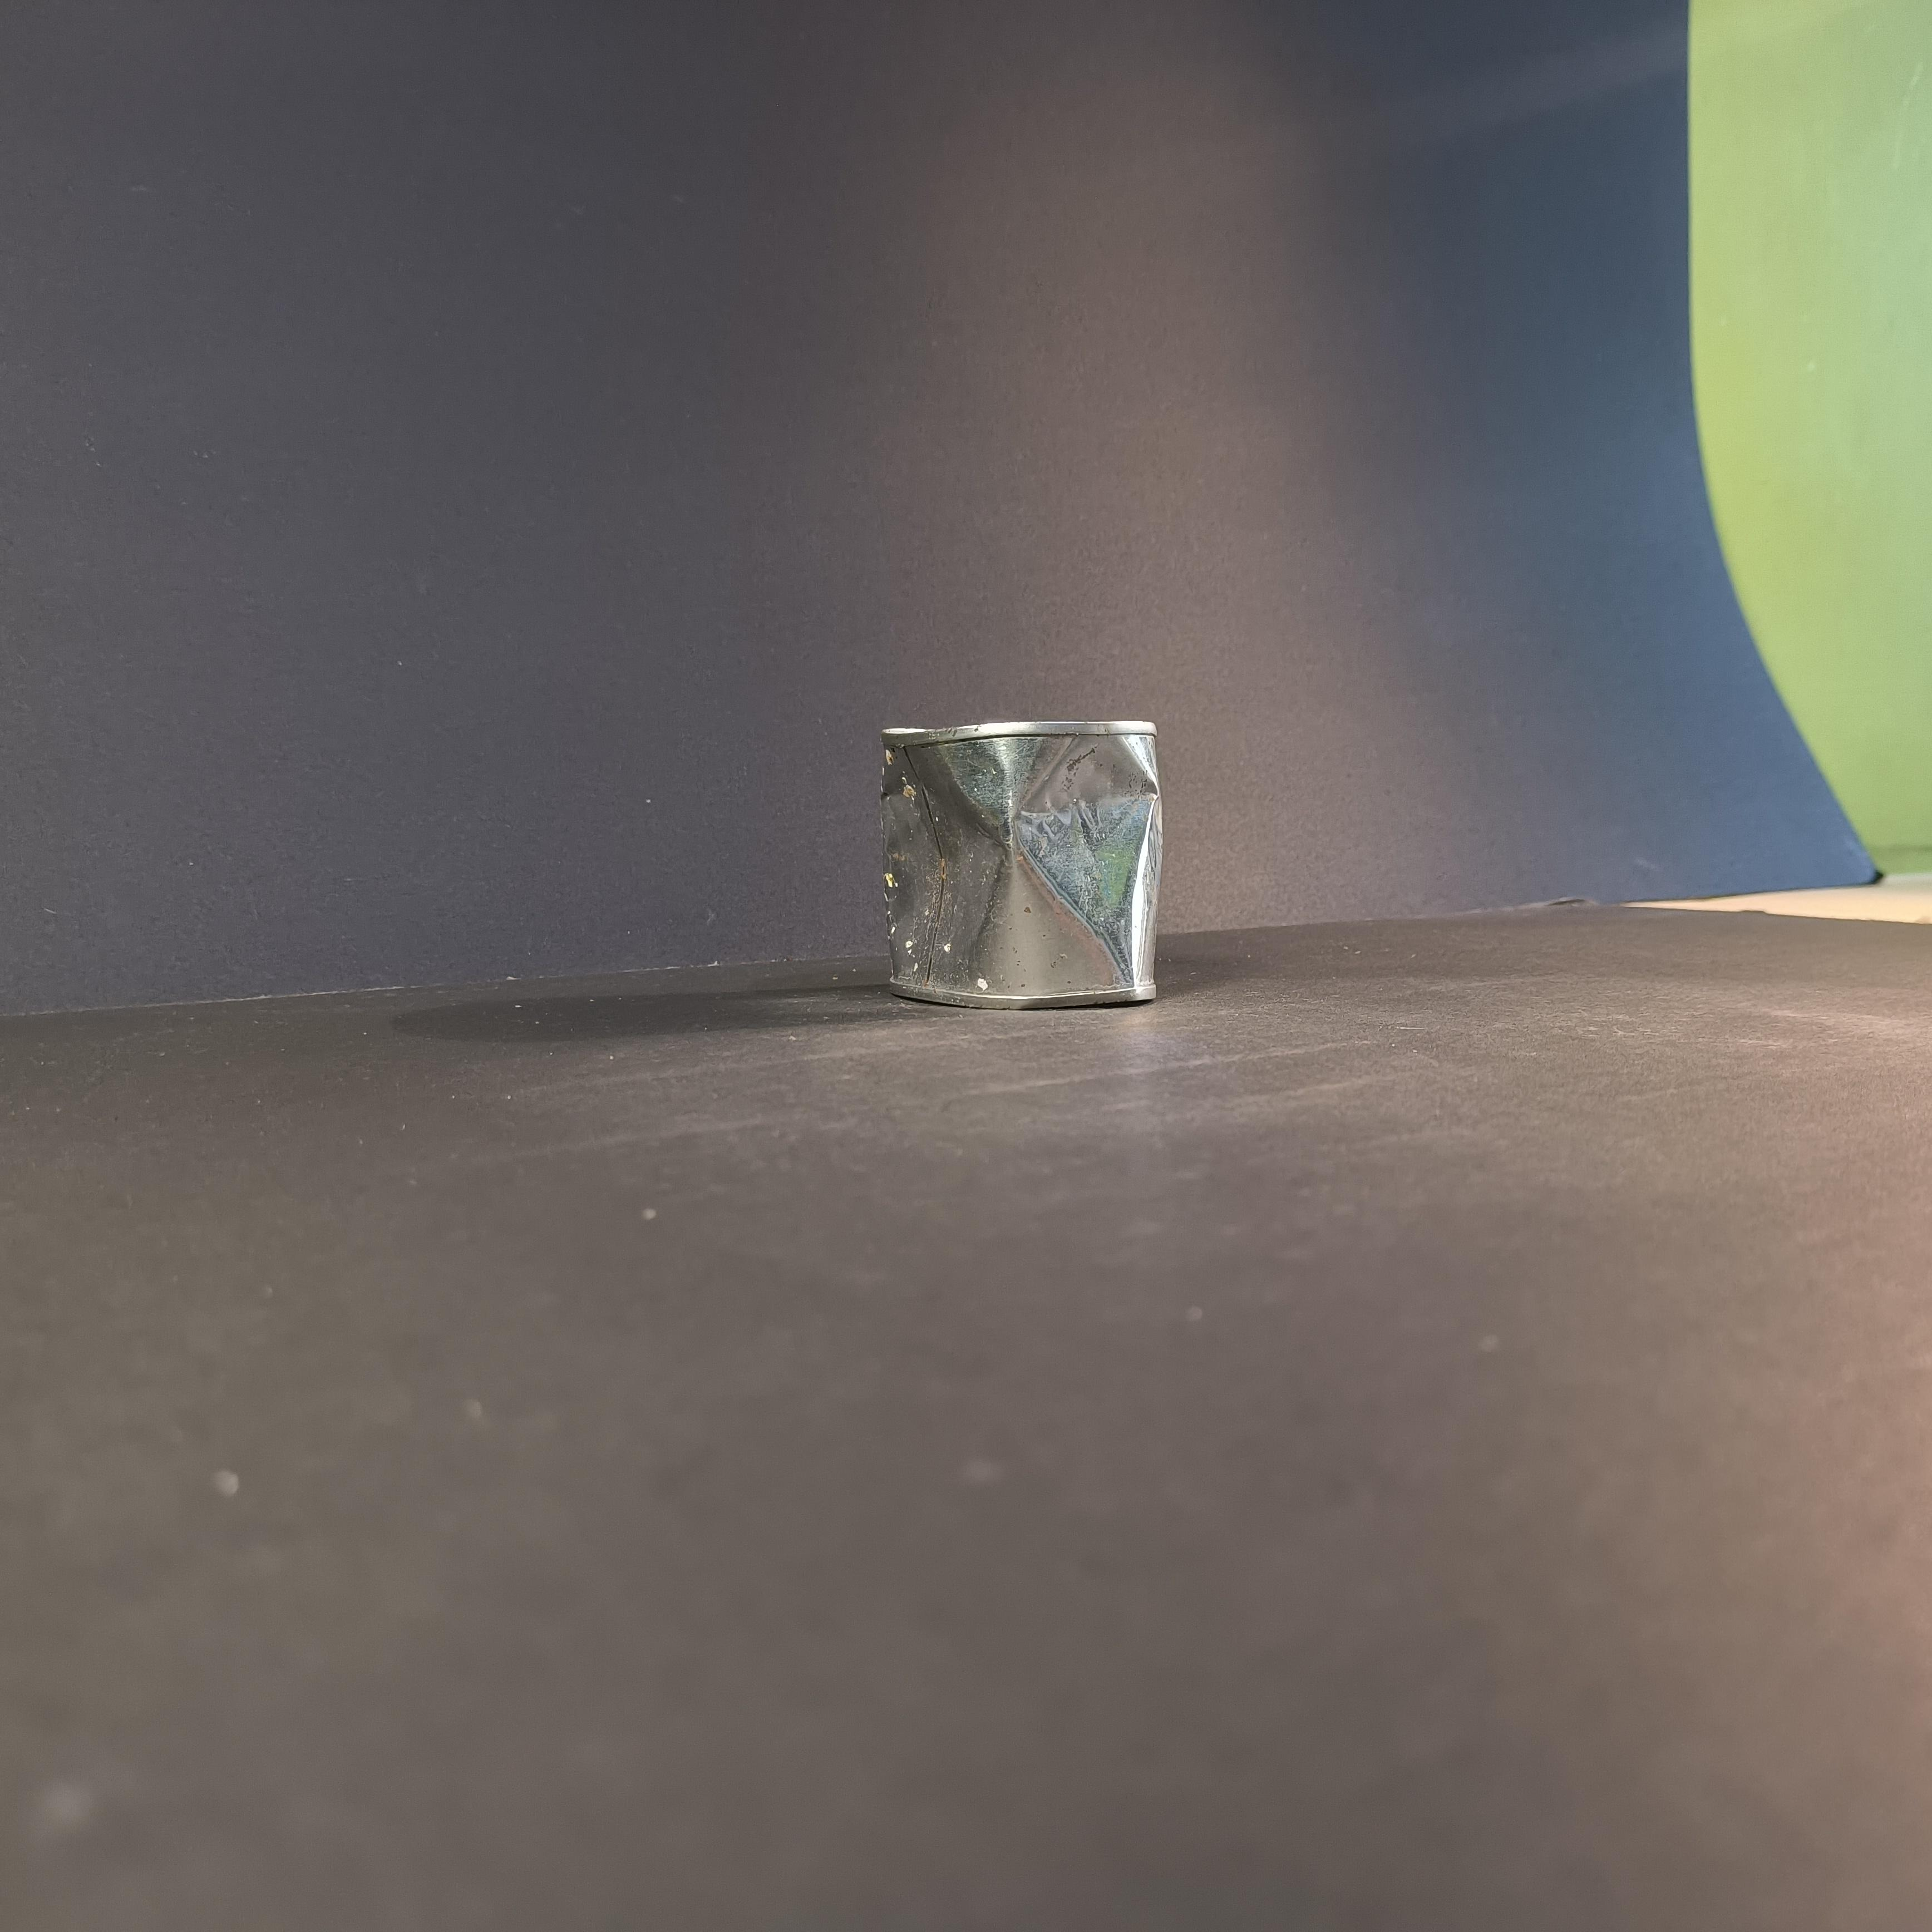Major Defect: (881, 720, 1162, 1008)
